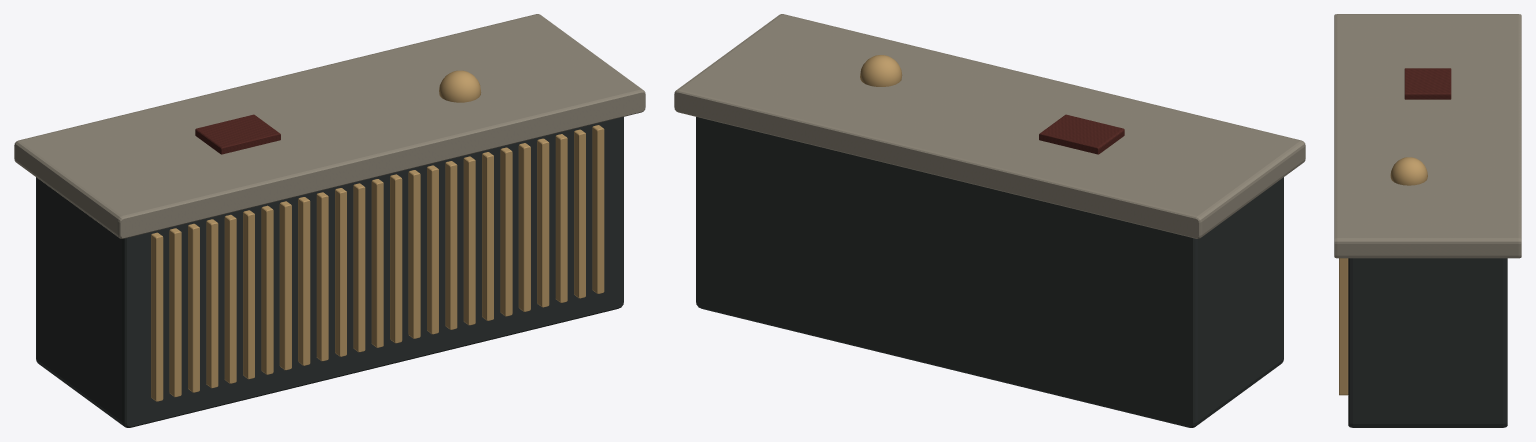
The model's file is reception.glb.
The picture shows the model from 3 angles, left to right: view 1: azimuth 30°, elevation 25°; view 2: azimuth 150°, elevation 25°; view 3: azimuth 270°, elevation 25°; orthographic projection. The views are drawn at different scales.
Parts seen in each view (by area): view 1: top, body, flute--3, flute-5, flute-7, flute--1, flute--11, flute--9, flute--8, flute-4, flute--12, flute--5 (+17 smaller); view 2: body, top, ledger, bell; view 3: top, body, ledger, flute-12, bell.
Boxes of the visible parts, x1=… form: top: x1=14, y1=14, x2=645, y2=238; body: x1=36, y1=117, x2=623, y2=427; flute--3: x1=316, y1=192, x2=328, y2=361; flute-5: x1=463, y1=156, x2=475, y2=325; flute-7: x1=500, y1=147, x2=512, y2=316; flute--1: x1=353, y1=183, x2=365, y2=352; flute--11: x1=169, y1=228, x2=181, y2=397; flute--9: x1=206, y1=219, x2=218, y2=388; flute--8: x1=224, y1=214, x2=236, y2=383; flute-4: x1=445, y1=161, x2=457, y2=329; flute--12: x1=151, y1=232, x2=163, y2=401; flute--5: x1=279, y1=201, x2=291, y2=370; body: x1=696, y1=117, x2=1283, y2=427; top: x1=674, y1=14, x2=1305, y2=238; ledger: x1=1039, y1=114, x2=1124, y2=154; bell: x1=860, y1=55, x2=902, y2=86; top: x1=1334, y1=14, x2=1521, y2=258; body: x1=1348, y1=258, x2=1507, y2=427; ledger: x1=1404, y1=68, x2=1451, y2=99; flute-12: x1=1339, y1=258, x2=1348, y2=395; bell: x1=1390, y1=157, x2=1427, y2=185.
Size of the model in its own units: 2.87 by 1.26 by 1.
Materials: 4 (2 with a texture image).
